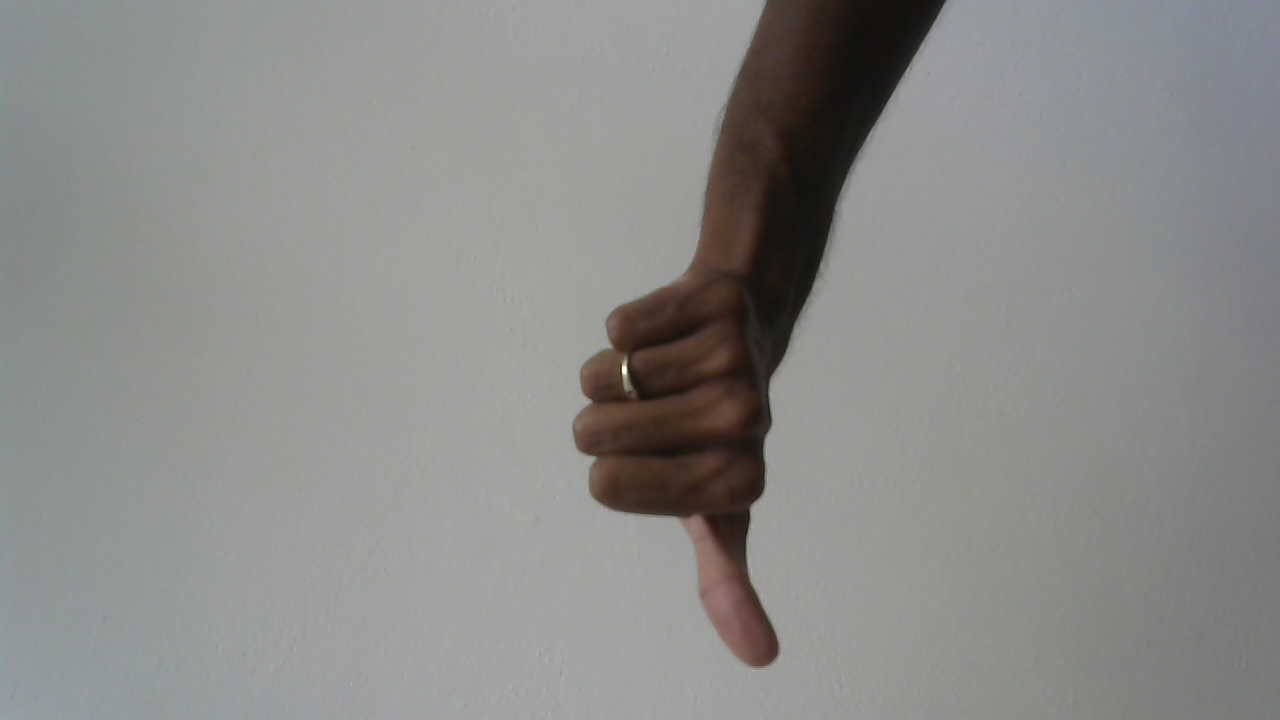thumbsdown: (549, 255, 839, 690)
